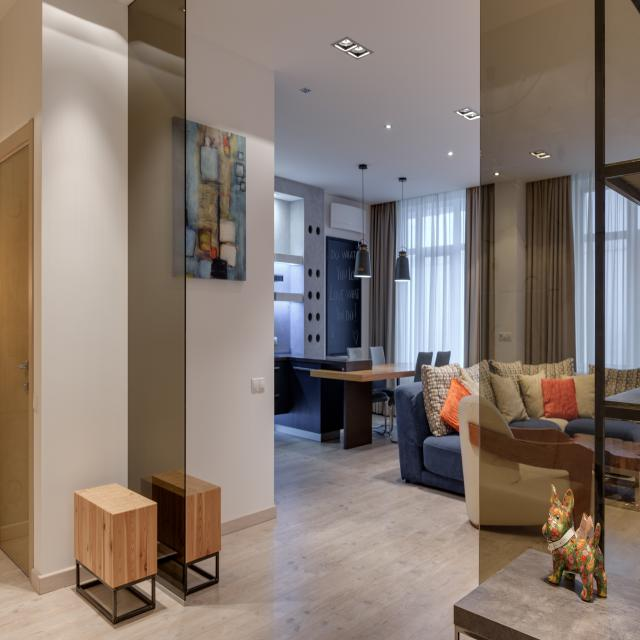floor: (0, 429, 553, 640), (605, 505, 640, 581)
wall: (40, 0, 128, 595), (185, 32, 276, 536), (128, 6, 184, 494), (274, 176, 326, 356), (494, 180, 517, 363), (290, 199, 304, 355), (516, 180, 526, 365), (325, 194, 363, 242), (274, 301, 291, 355), (274, 198, 290, 255), (274, 263, 290, 293), (363, 204, 371, 253)
